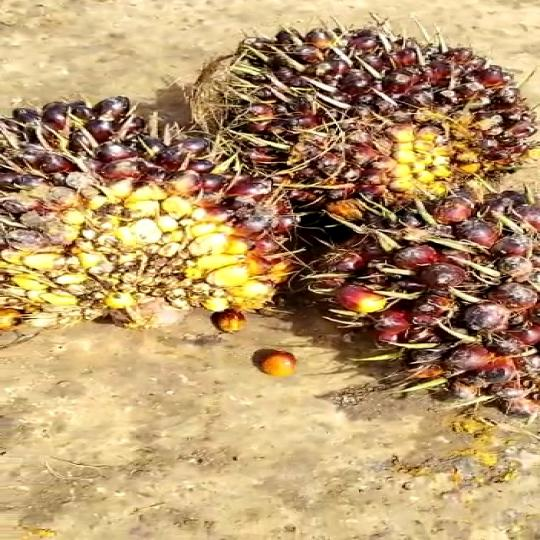kurang masak: (0, 86, 320, 336), (179, 19, 540, 223), (276, 173, 540, 436)
